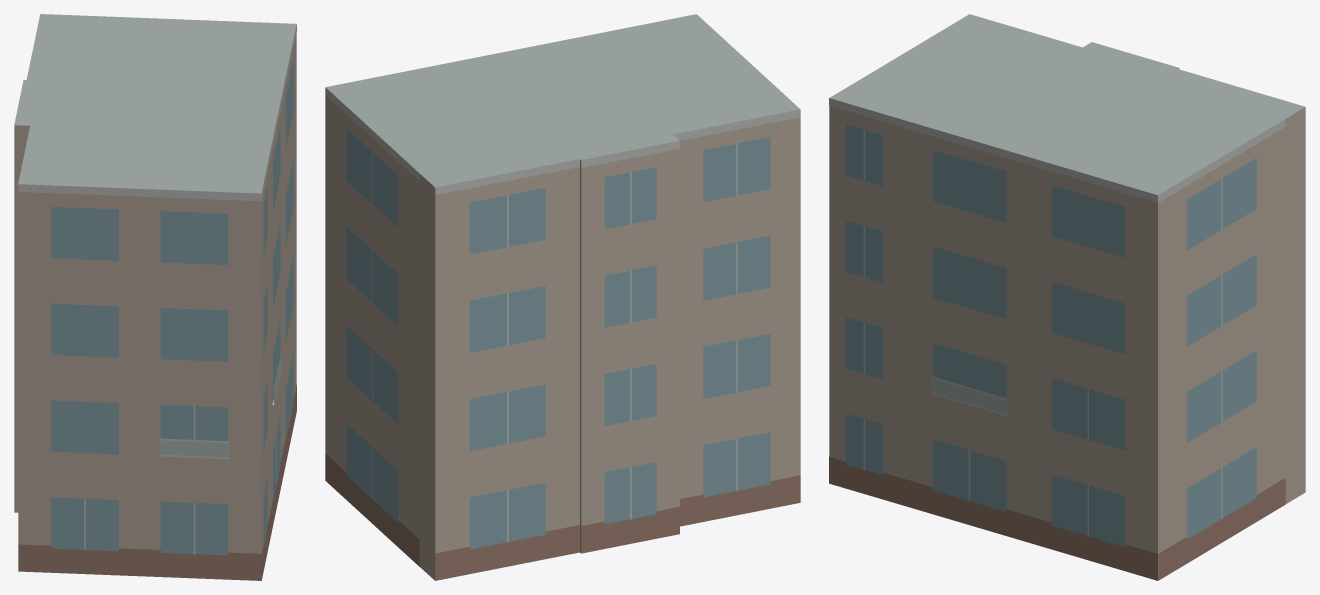
Rendered from survey-upis-32828091.glb.
3 views of the same model, side by side, from view 1: azimuth 30°, elevation 25°; view 2: azimuth 150°, elevation 25°; view 3: azimuth 270°, elevation 25° (orthographic). The views are drawn at different scales.
Visible parts, largest first — view 1: survey-upis-32828091.tmp; view 2: survey-upis-32828091.tmp; view 3: survey-upis-32828091.tmp.
Part boxes in pixels (<box>): survey-upis-32828091.tmp: <box>14,14,296,580</box>; survey-upis-32828091.tmp: <box>325,14,800,580</box>; survey-upis-32828091.tmp: <box>829,14,1305,580</box>.
Bounding box in the file's own units: 12.26 × 12.15 × 13.62.
